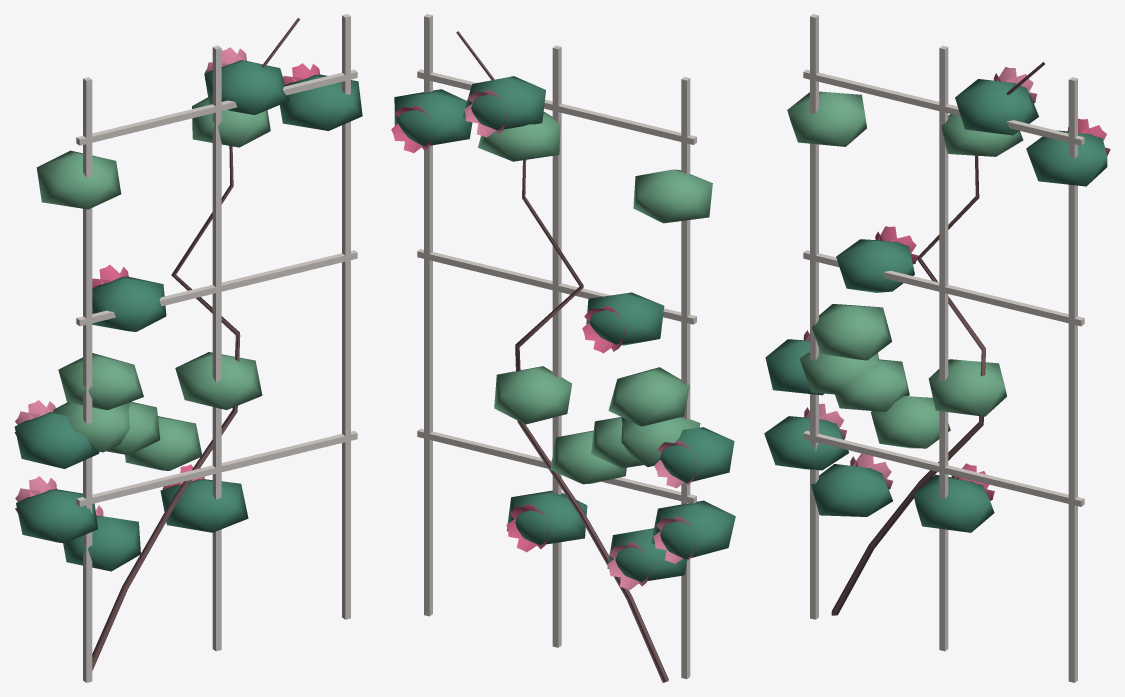
Rendered from rose_climbing.glb.
3 views of the same model, side by side, from view 1: azimuth 30°, elevation 25°; view 2: azimuth 150°, elevation 25°; view 3: azimuth 330°, elevation 25° (orthographic).
Parts seen in each view (by area): view 1: rose_climbing; view 2: rose_climbing; view 3: rose_climbing.
Part boxes in pixels (x1,y1,x2,y2): rose_climbing: (14, 14, 362, 682); rose_climbing: (391, 14, 735, 682); rose_climbing: (764, 14, 1110, 682).
Size of what is drawn, in the model's own units: 1.75 by 3 by 0.3927.
